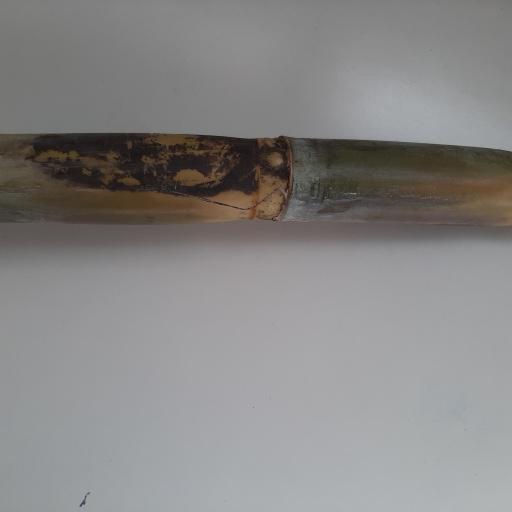Bud: (254, 146, 284, 170)
